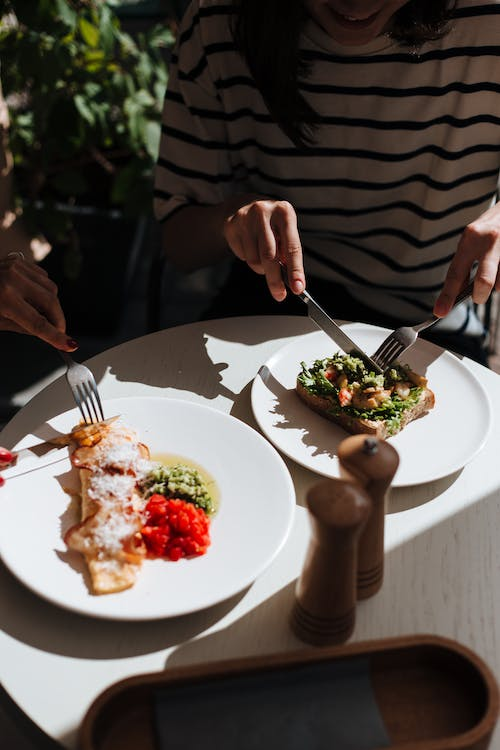knife: (278, 258, 385, 376), (0, 412, 125, 473)
